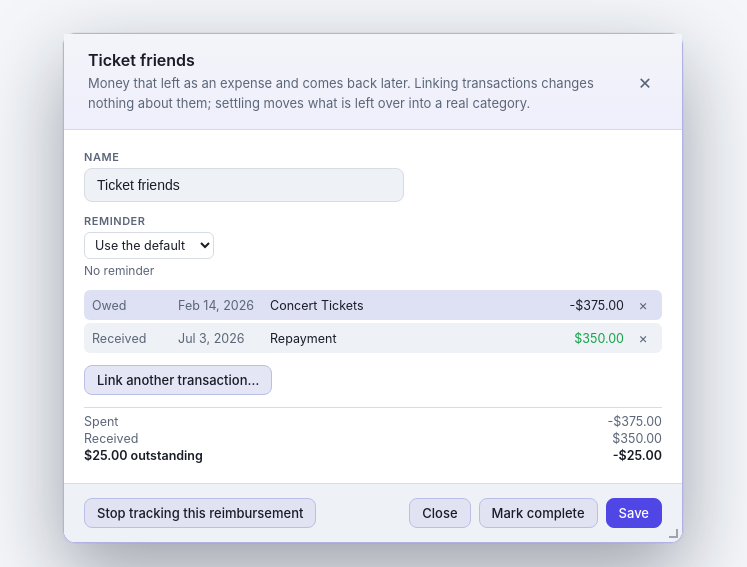
Scenario: naming a reimbursement › follows the name in the heading as it is typed
Expected: the text "Ticket friends" is shown, [88, 50, 195, 70]
Replace the text in the field labelled "Name" with "Joe". click: (244, 185)
box: [84, 168, 404, 202]
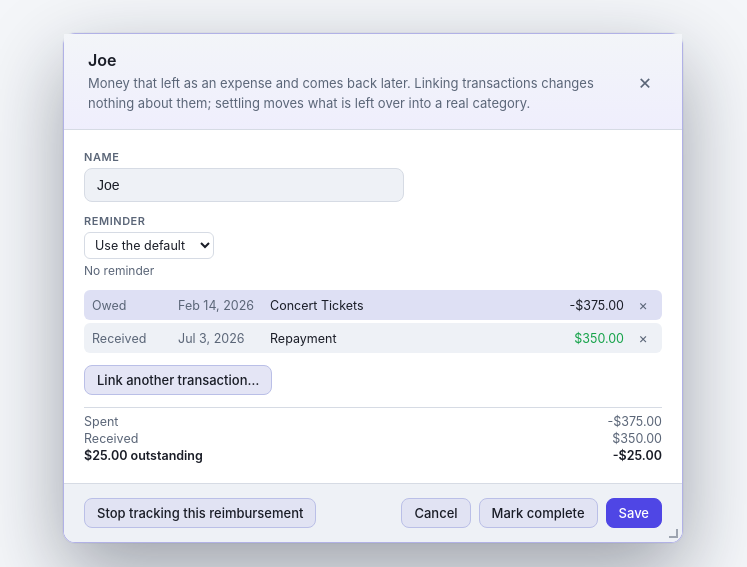
Now the text "Joe" is shown, box [88, 50, 116, 70]
